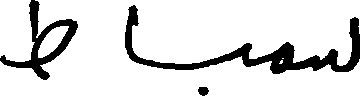ا: (122, 2, 137, 63)
ب: (198, 40, 251, 95)
س: (312, 14, 358, 72)
ط: (0, 0, 77, 81)
م: (270, 39, 291, 73)
